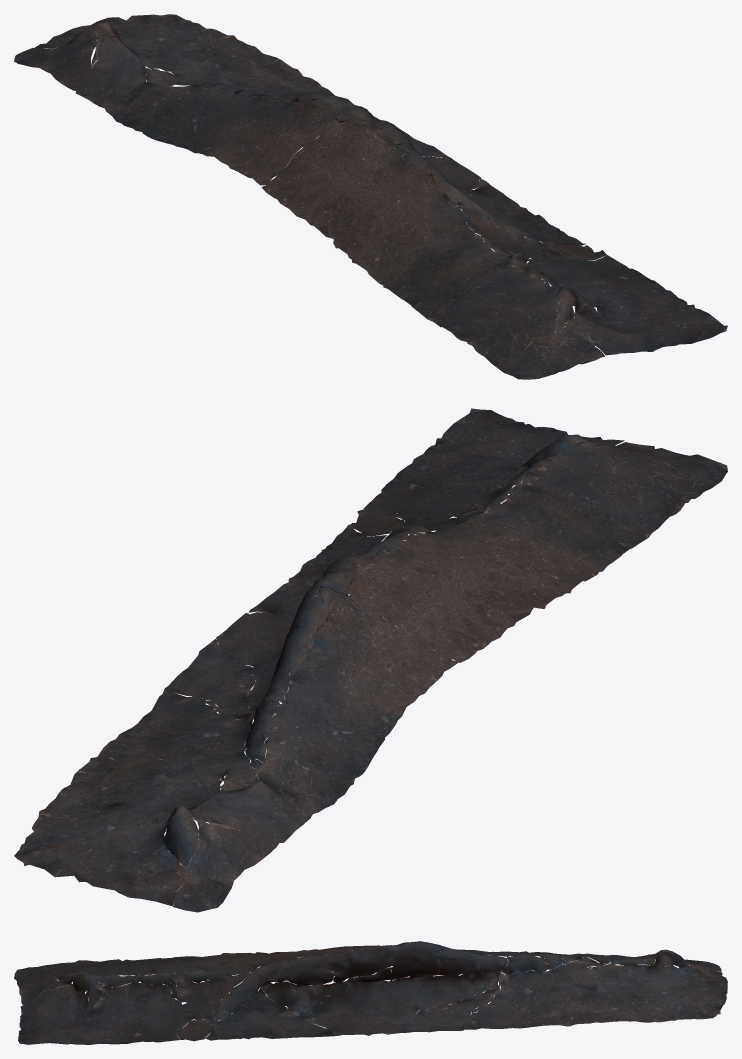
The picture shows the model from 3 angles, top to bottom: view 1: azimuth 30°, elevation 25°; view 2: azimuth 150°, elevation 25°; view 3: azimuth 270°, elevation 25°; orthographic projection. The views are drawn at different scales.
Parts seen in each view (by area): view 1: ph_root; view 2: ph_root; view 3: ph_root.
Part boxes in pixels (left/top/right/bottom): ph_root: left=14, top=14, right=727, bottom=379; ph_root: left=14, top=408, right=727, bottom=912; ph_root: left=14, top=941, right=727, bottom=1044.
Bounding box in the file's own units: 0.555 × 0.1775 × 1.84.
Materials: 1 (1 with a texture image).
